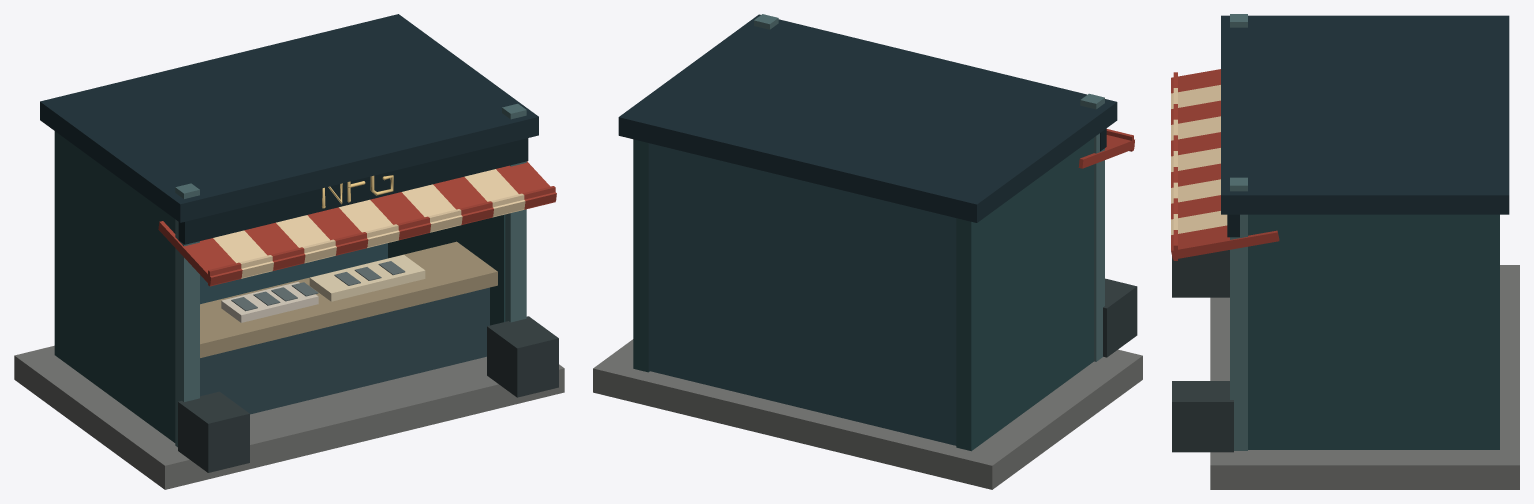
Rendered from newspaper-stand.glb.
The picture shows the model from 3 angles, left to right: view 1: azimuth 30°, elevation 25°; view 2: azimuth 150°, elevation 25°; view 3: azimuth 270°, elevation 25°; orthographic projection. The views are drawn at different scales.
Size of the model in its own units: 4.5 by 3.04 by 3.31.
